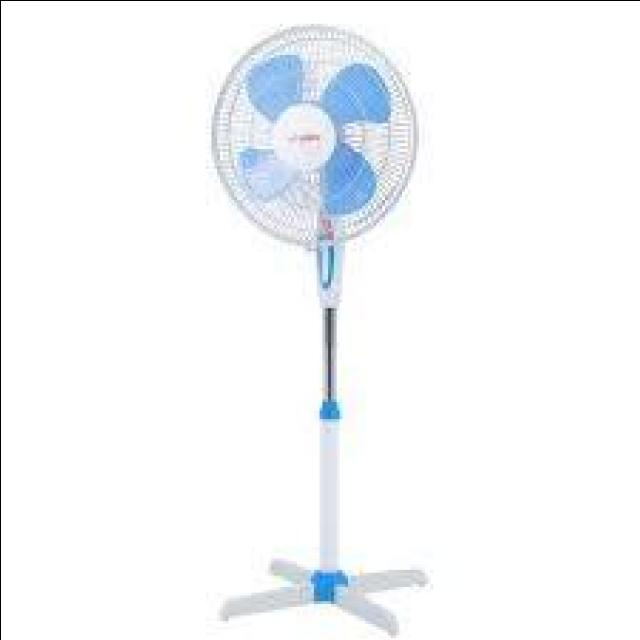fan: (214, 19, 434, 635)
